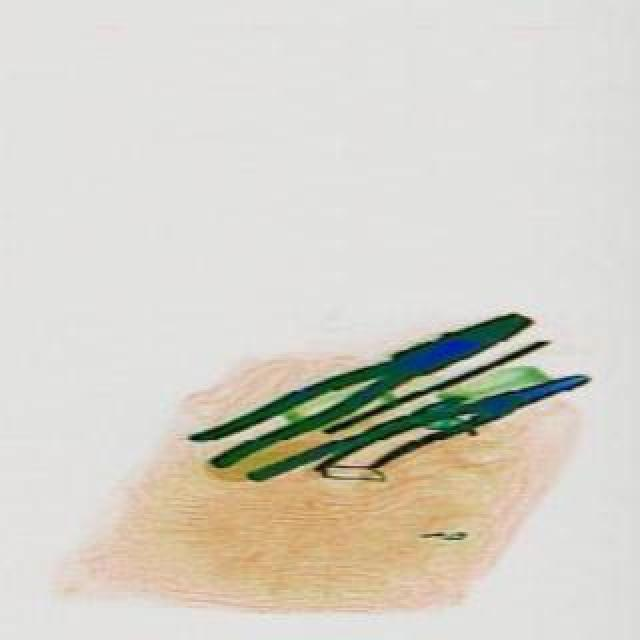wrench: (196, 302, 544, 482), (254, 360, 602, 512)
